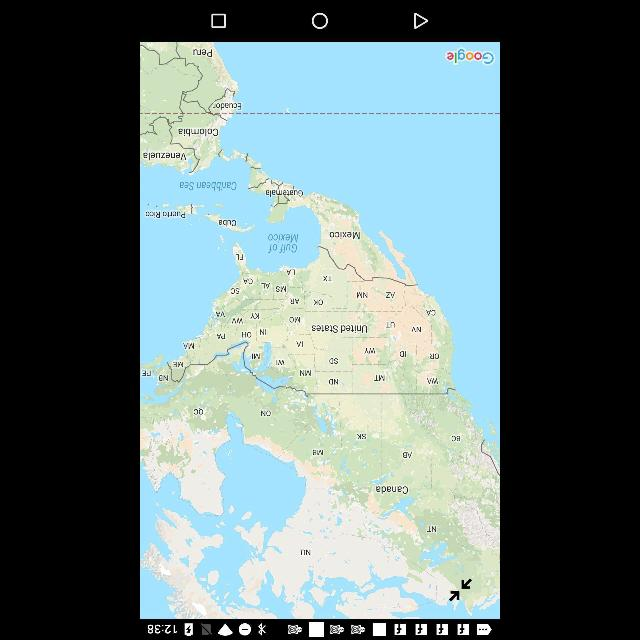icon: (312, 12, 328, 30), (414, 12, 428, 28), (212, 13, 226, 27)
map: (141, 41, 499, 618)
panel: (141, 0, 499, 40)
uppertaskbar: (140, 620, 500, 640)
